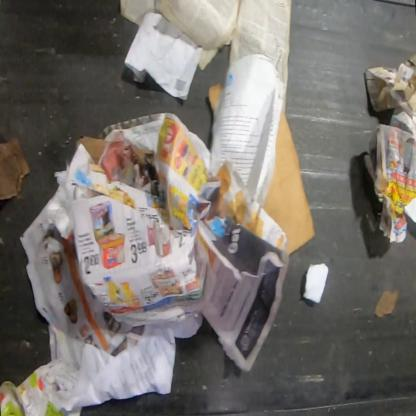cardboard: (262, 106, 316, 255), (0, 135, 30, 200), (77, 136, 106, 165), (207, 82, 223, 114)
